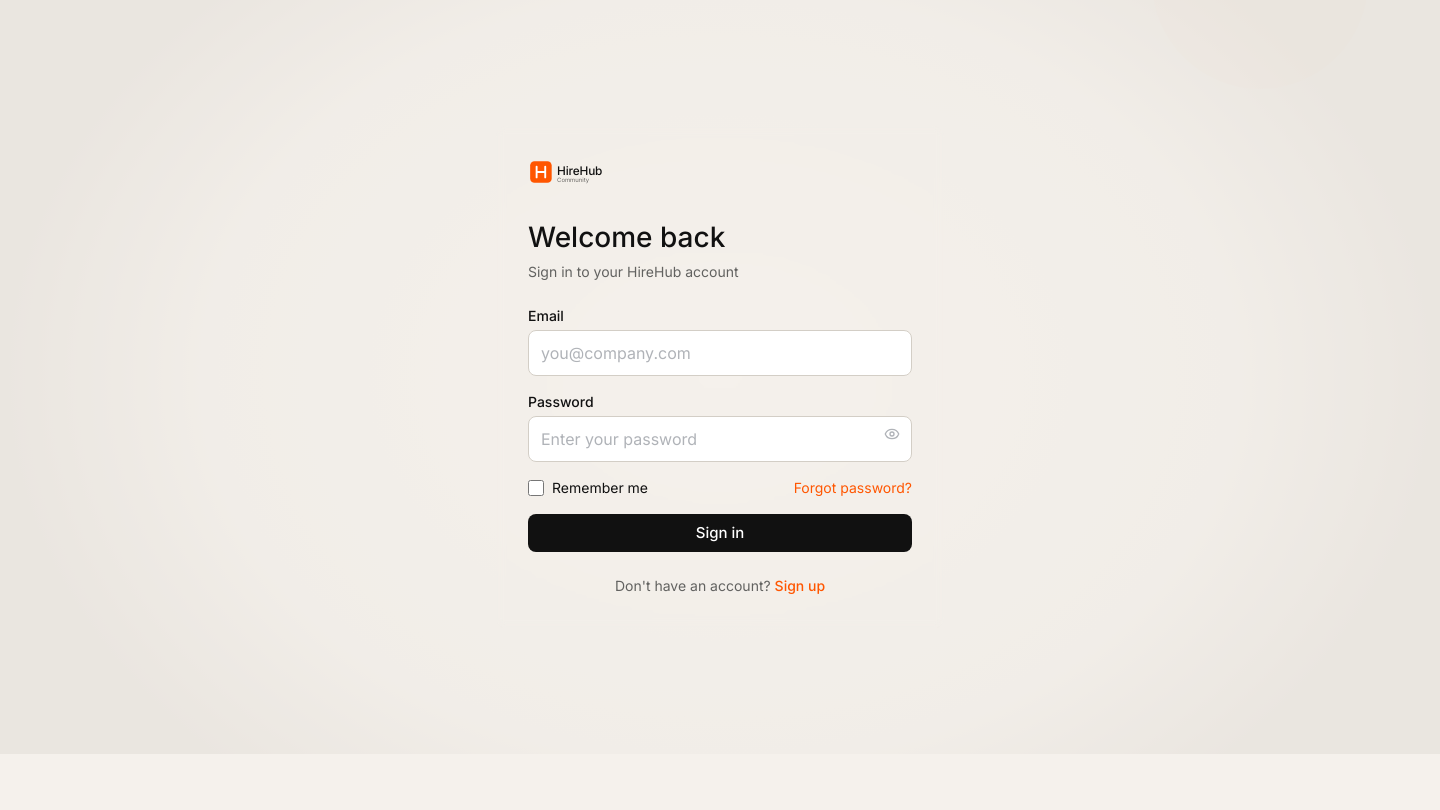
Test case: LoginPage › shows loading state on submit
Type "test@example.com" into the field labelled "Email" at (720, 353), box [528,330,912,376]
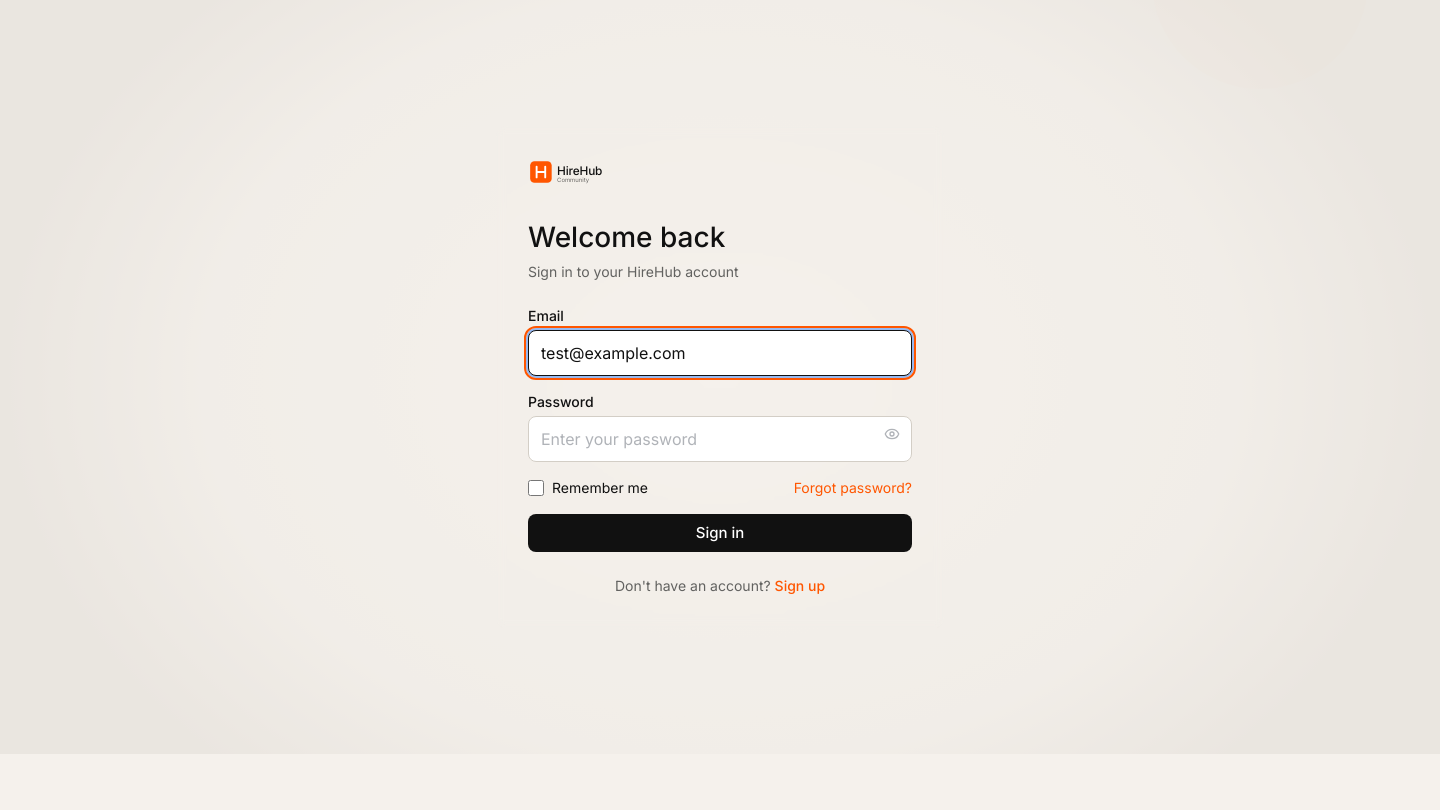
Type "password123" into the password field labelled "Password" at (720, 439), box [528,416,912,462]
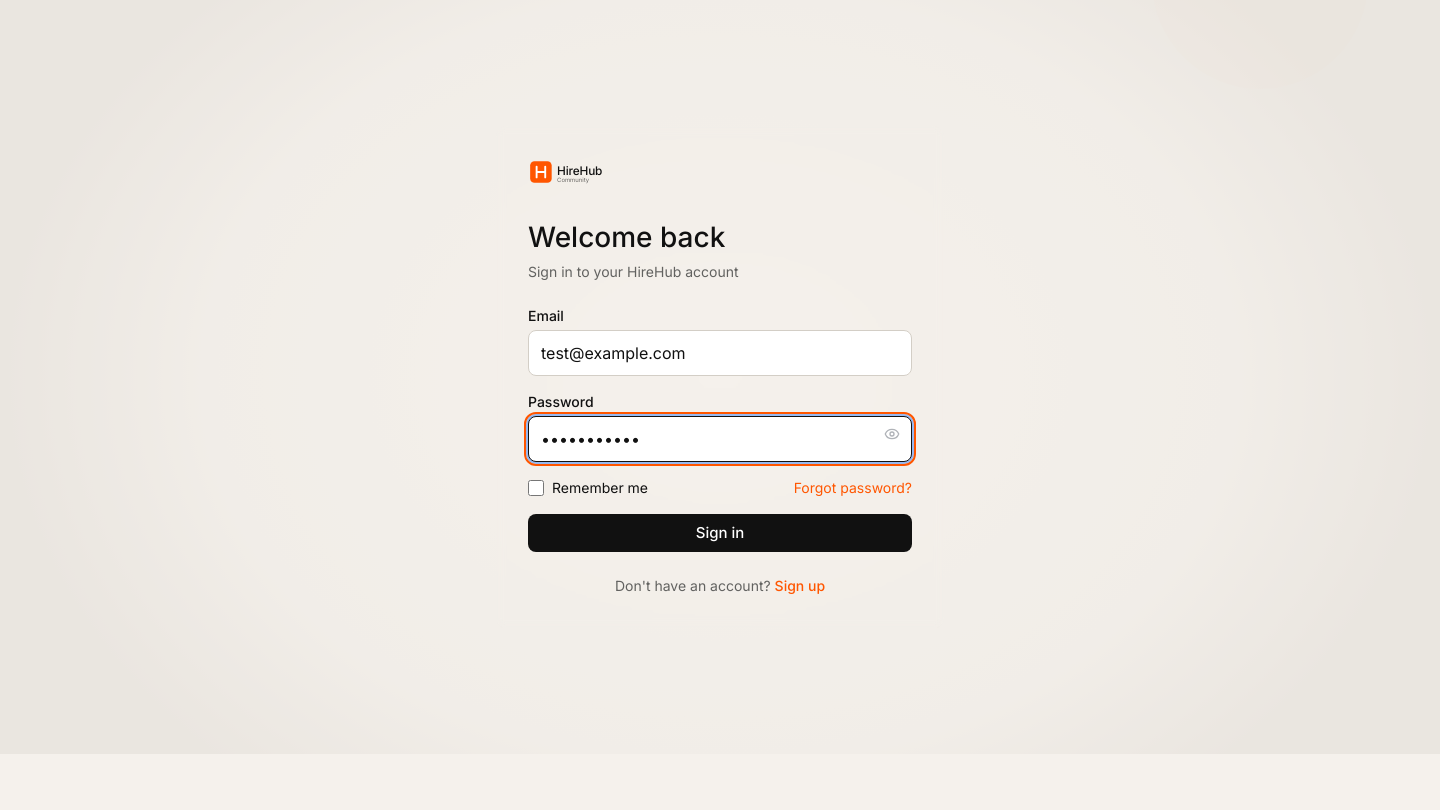
Click the button "Sign in" at (720, 533), box [528,514,912,552]
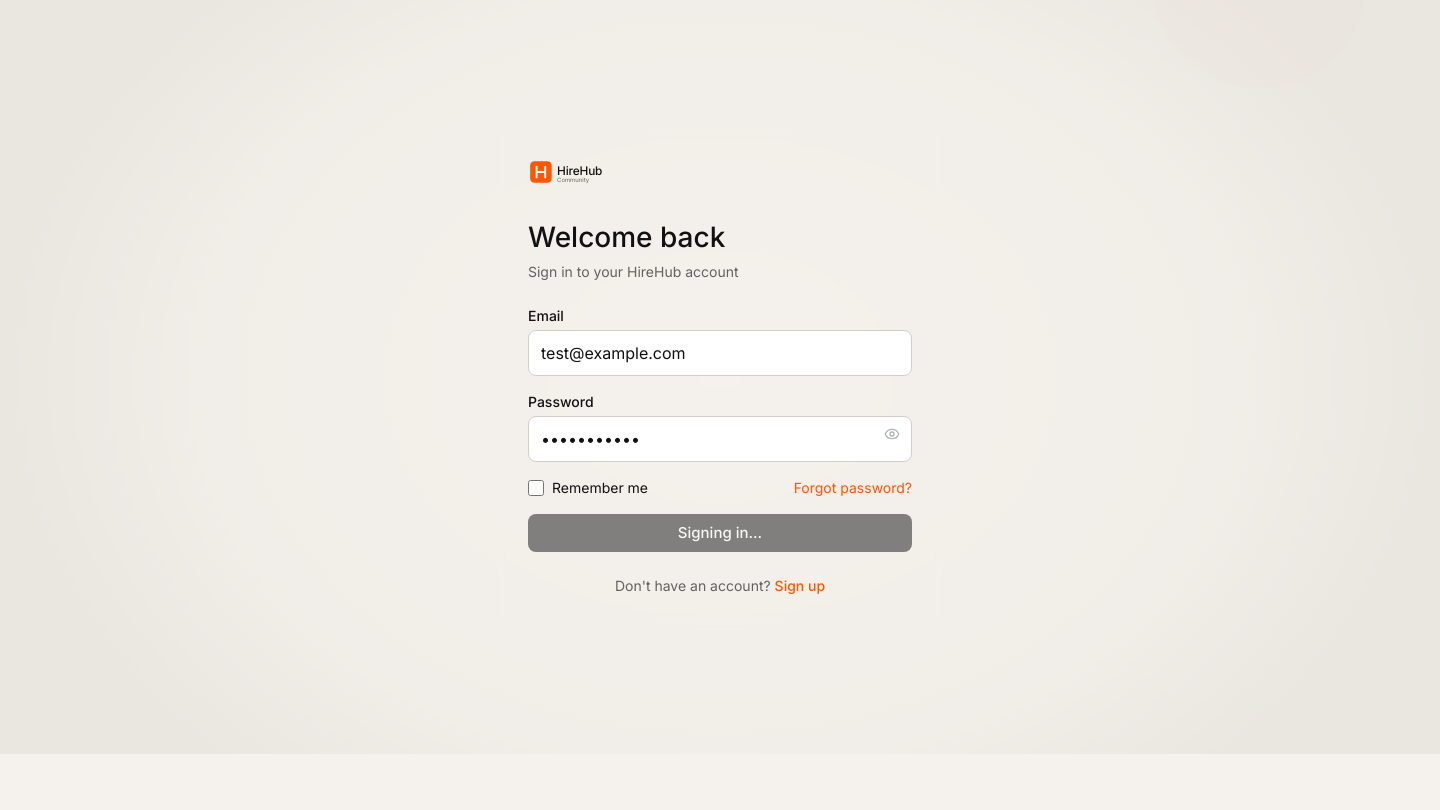
Now the button "Signing in..." is disabled, box [528,514,912,552]
